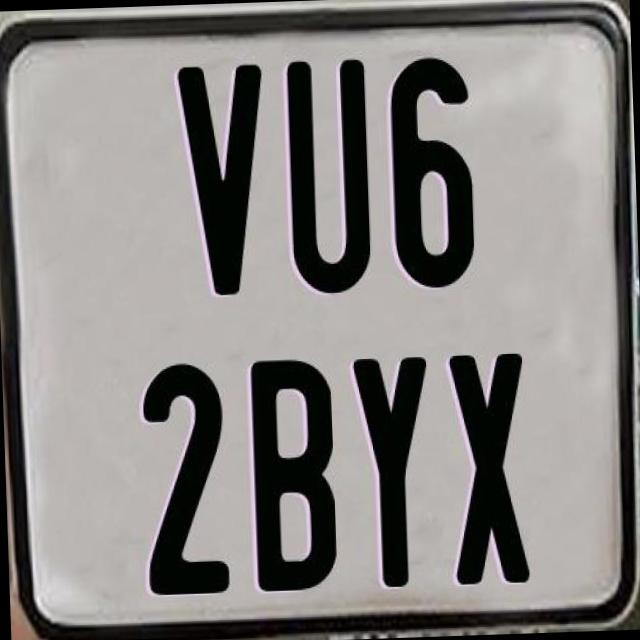2: (138, 361, 232, 604)
6: (386, 55, 482, 294)
B: (246, 353, 338, 590)
U: (283, 54, 376, 289)
V: (172, 59, 270, 294)
X: (446, 351, 532, 583)
Y: (349, 354, 434, 591)
